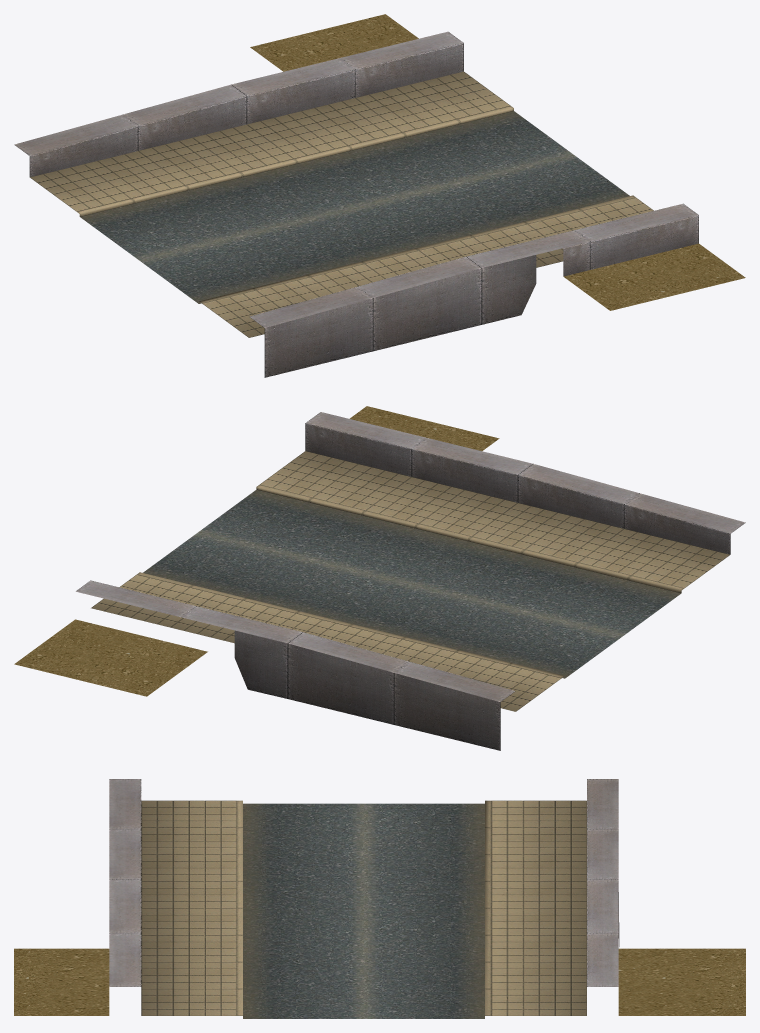
Rendered from M10_Z1_FlyOver5.glb.
3 renders of one model, top to bottom at view 1: azimuth 30°, elevation 25°; view 2: azimuth 150°, elevation 25°; view 3: azimuth 270°, elevation 25°, orthographic. The views are drawn at different scales.
Visible parts, largest first — view 1: M10_Z1_FLYOVER5; view 2: M10_Z1_FLYOVER5; view 3: M10_Z1_FLYOVER5.
Boxes of the visible parts, x1,y1,x2,y2 form: M10_Z1_FLYOVER5: [14, 14, 745, 377]; M10_Z1_FLYOVER5: [14, 406, 745, 750]; M10_Z1_FLYOVER5: [14, 779, 745, 1018].
Size of the model in its own units: 16 by 2 by 23.
6 materials, 6 textured.
